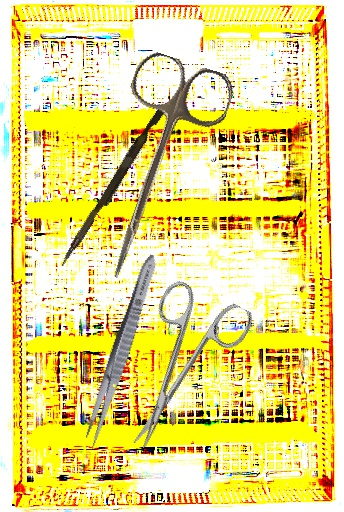Dressing Forceps: (80, 251, 162, 452)
Iris Scissors: (72, 47, 239, 295), (95, 272, 257, 466)
Pusher: (59, 102, 167, 271)
